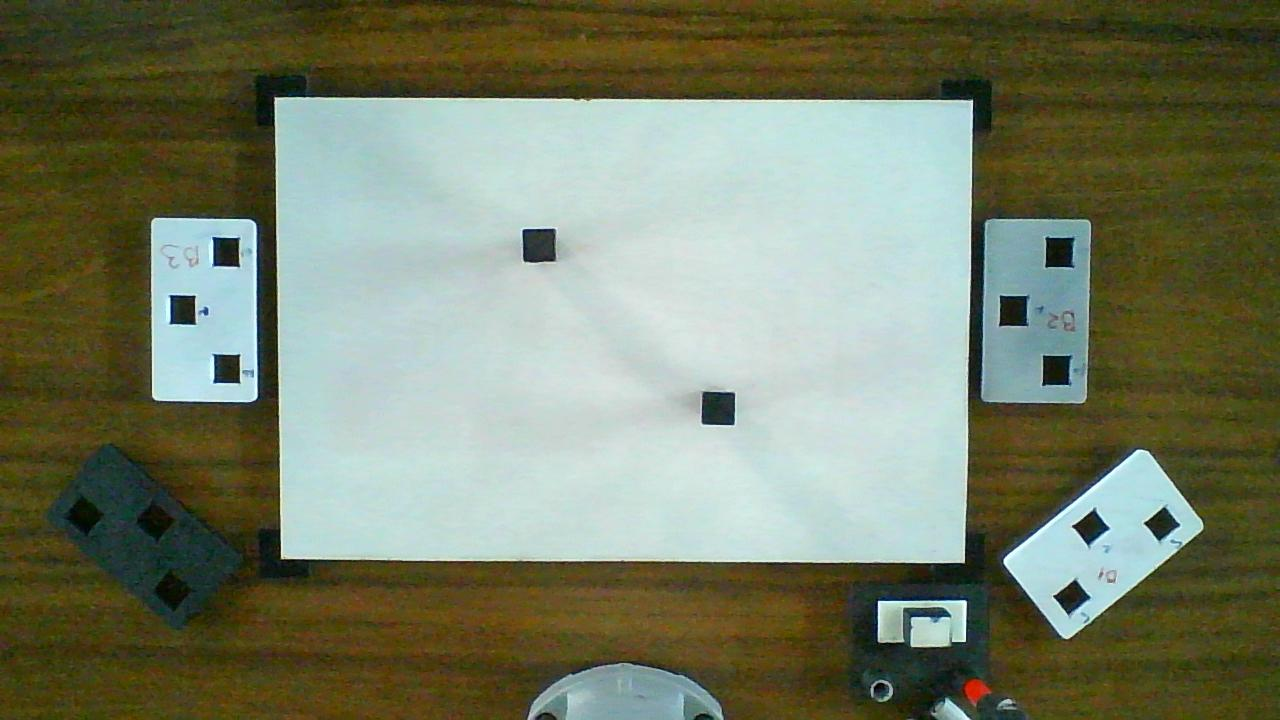peca_preta: (523, 228, 555, 261), (703, 393, 734, 425)
